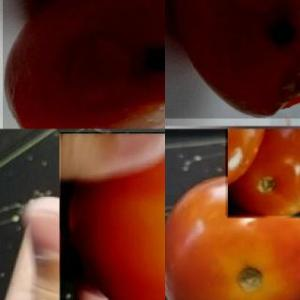tomato: (61, 132, 165, 300), (164, 172, 300, 300), (226, 130, 300, 216)
